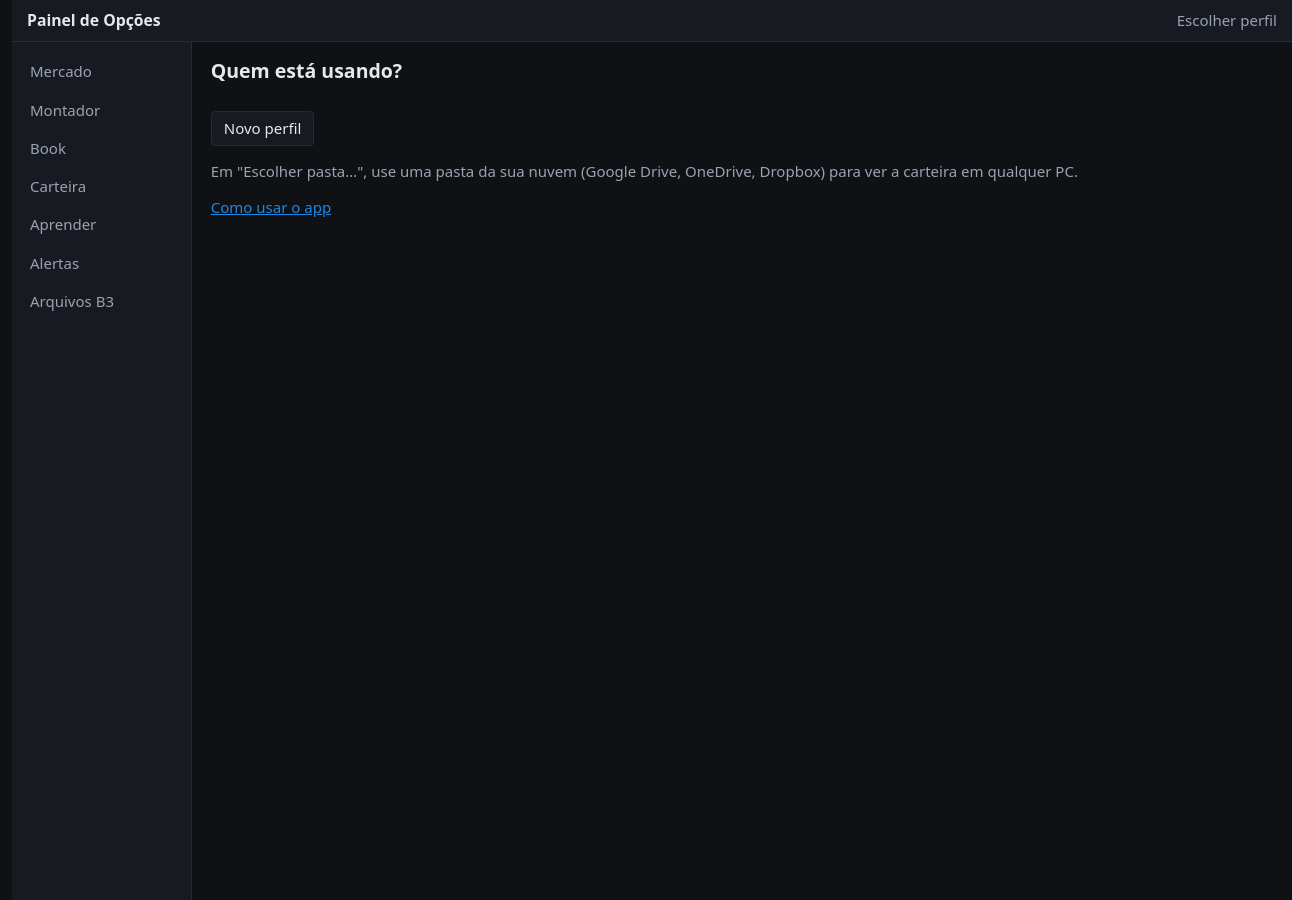
Test: sem perfil, a tela de perfis tem o link Como usar o app para Comece aqui
Expected: the heading "Quem está usando?" is shown, top-left (211, 57), bottom-right (402, 84)
Click the link "Como usar o app": (271, 207) top-left (211, 197), bottom-right (331, 217)
(page scrolled)
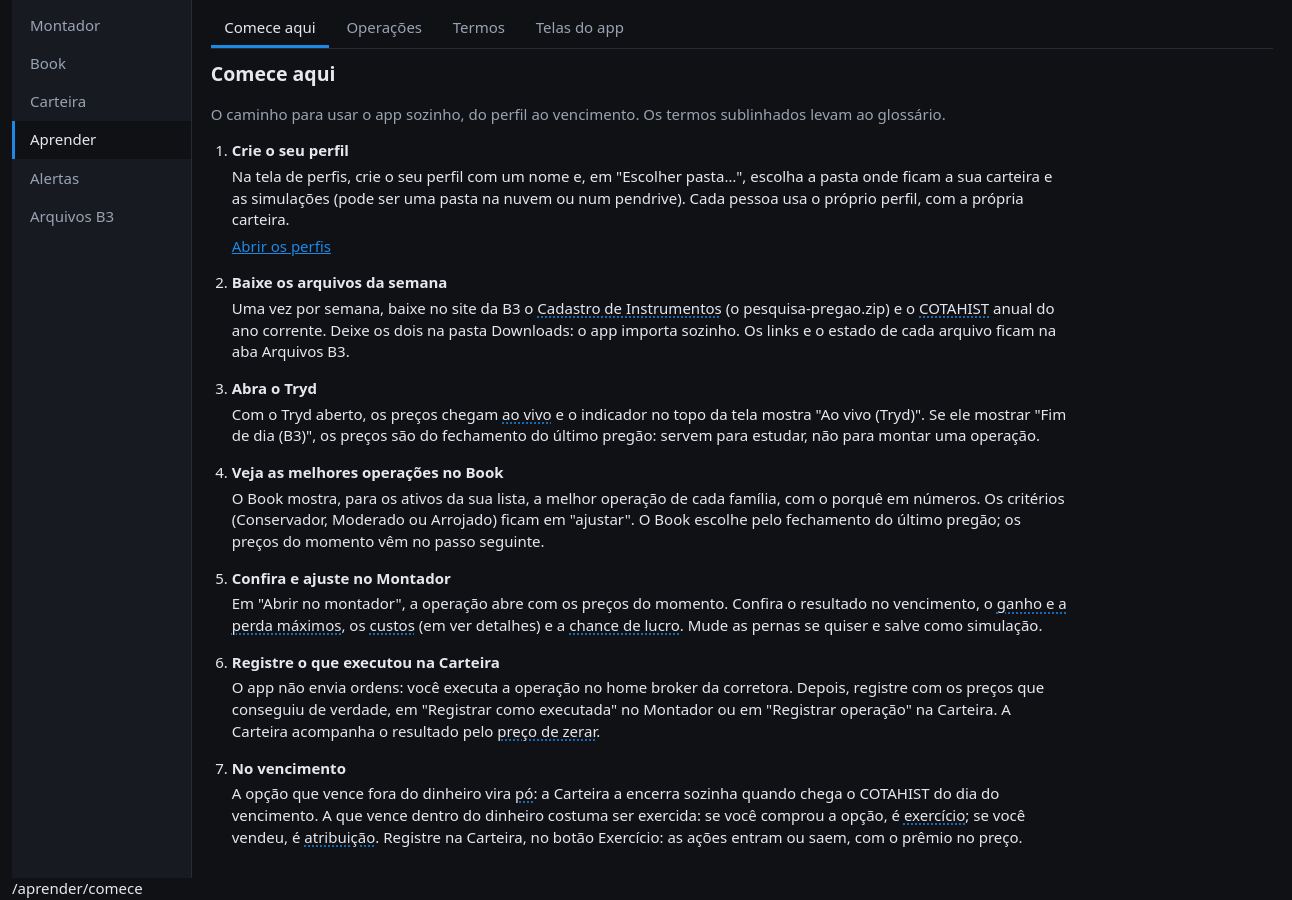
Expected: the navigation bar named "Seções de Aprender" is shown, top-left (211, 11), bottom-right (1273, 49)
Expected: the text with test id "endereco" reads "/aprender/comece", top-left (12, 878), bottom-right (143, 898)
